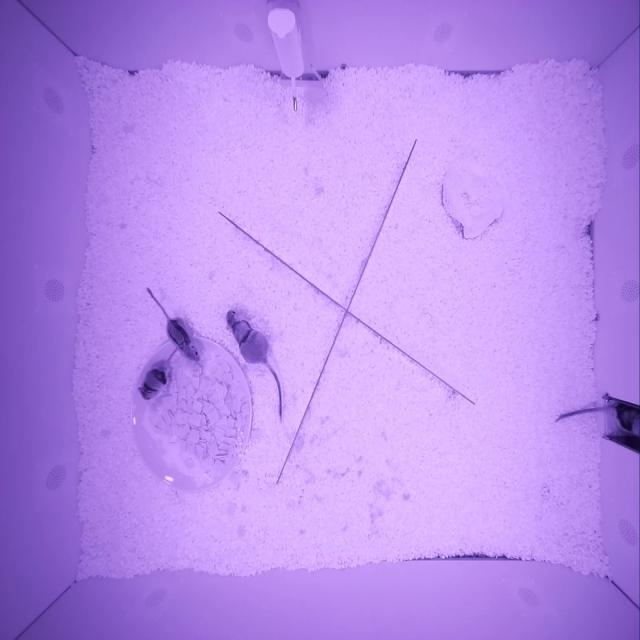adult_back: (613, 403, 640, 436)
adult_front: (226, 309, 269, 364)
pup_h_stripe: (138, 365, 168, 400)
pup_v_stripe: (166, 317, 200, 362)
